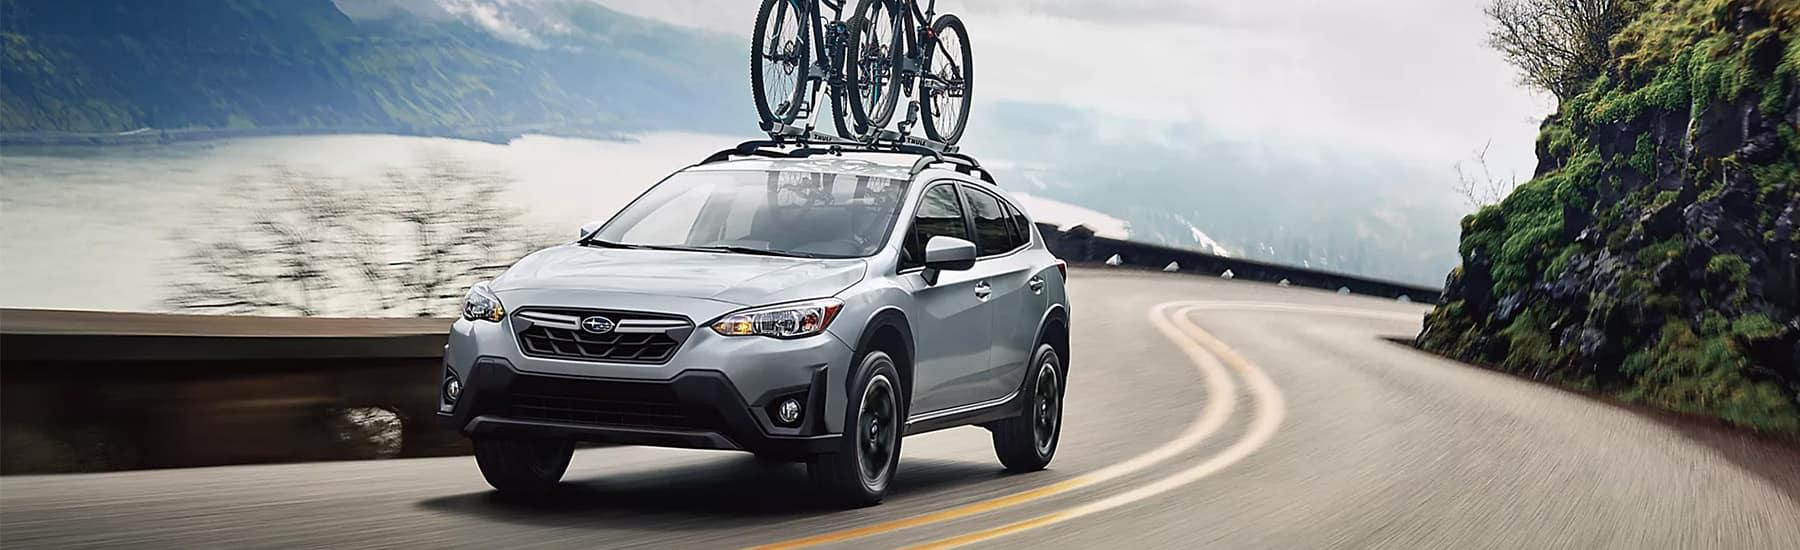subaru: (575, 308, 619, 341)
